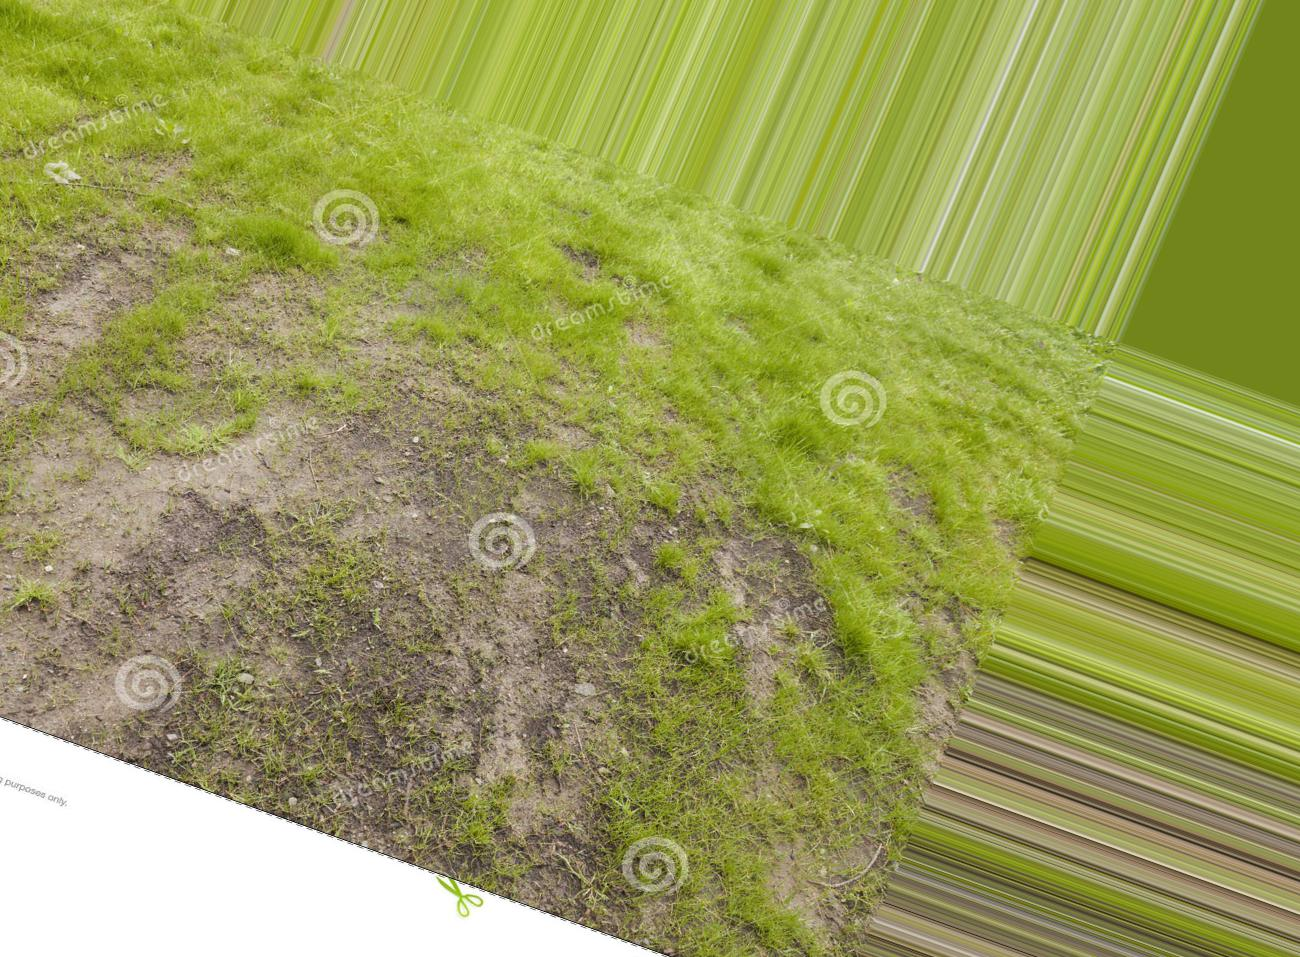patch: (80, 471, 347, 602), (234, 652, 469, 797), (99, 308, 305, 447), (482, 606, 674, 720), (362, 350, 498, 463), (700, 716, 825, 804), (504, 752, 598, 824), (648, 513, 740, 586)
